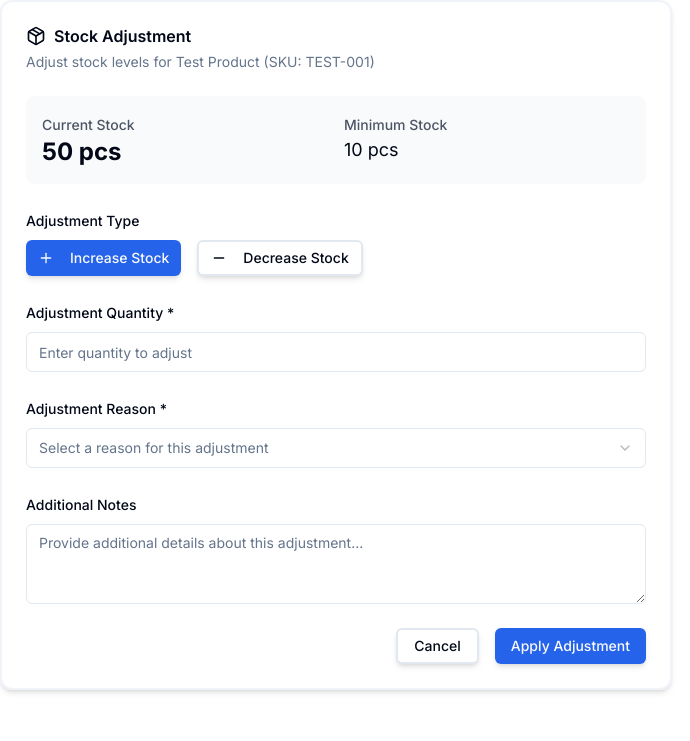
Test: StockAdjustmentForm › shows below minimum stock warning
Switch to decrease
Click the button "Decrease Stock" at (280, 258), box [197,240,363,276]
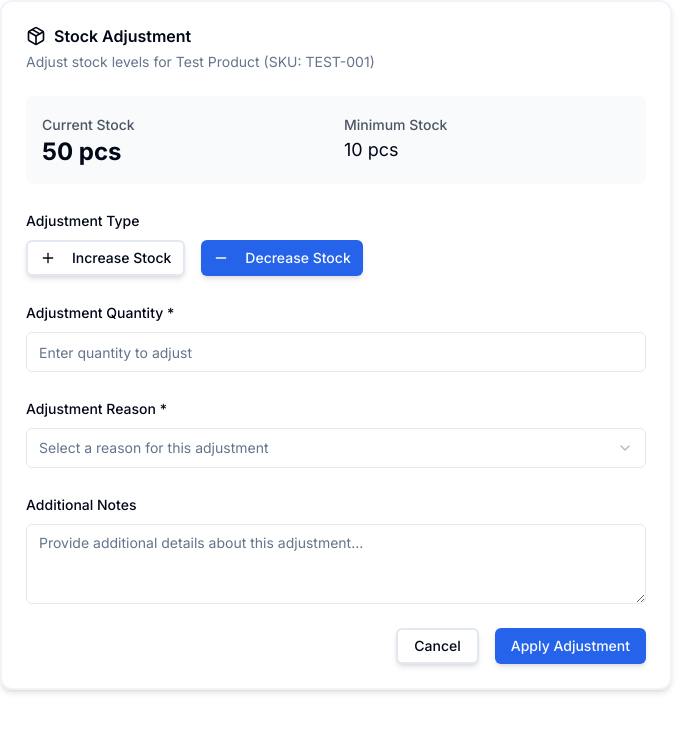
Type "45" into the number field labelled "Adjustment Quantity *" at (336, 352), box [26,332,646,372]
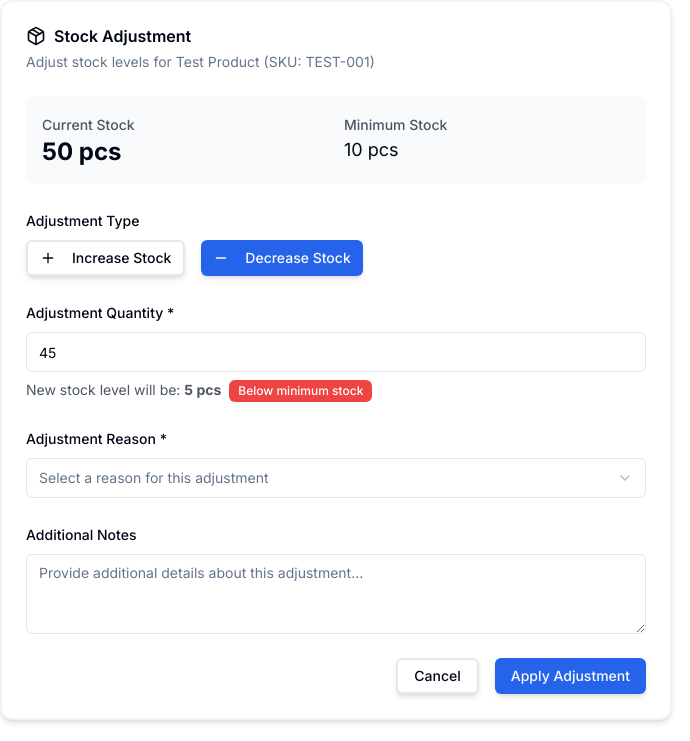
Now the text "Below minimum stock" is shown, box [229,380,372,402]
